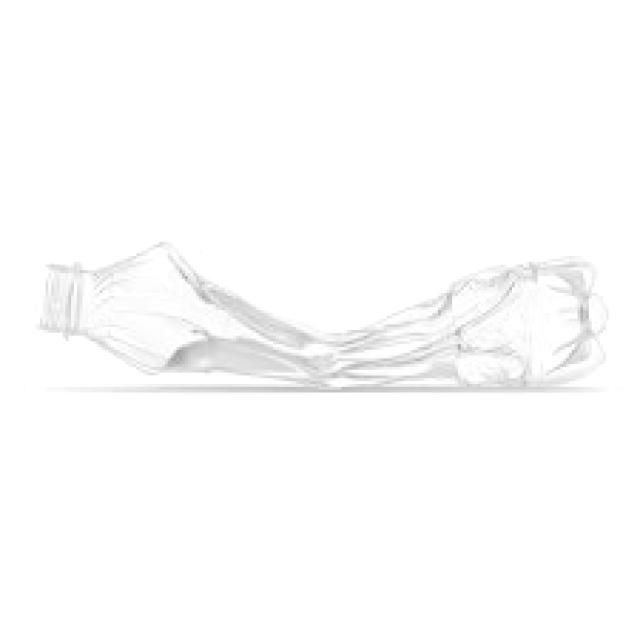BIODEGRADABLE: (26, 222, 615, 415)
